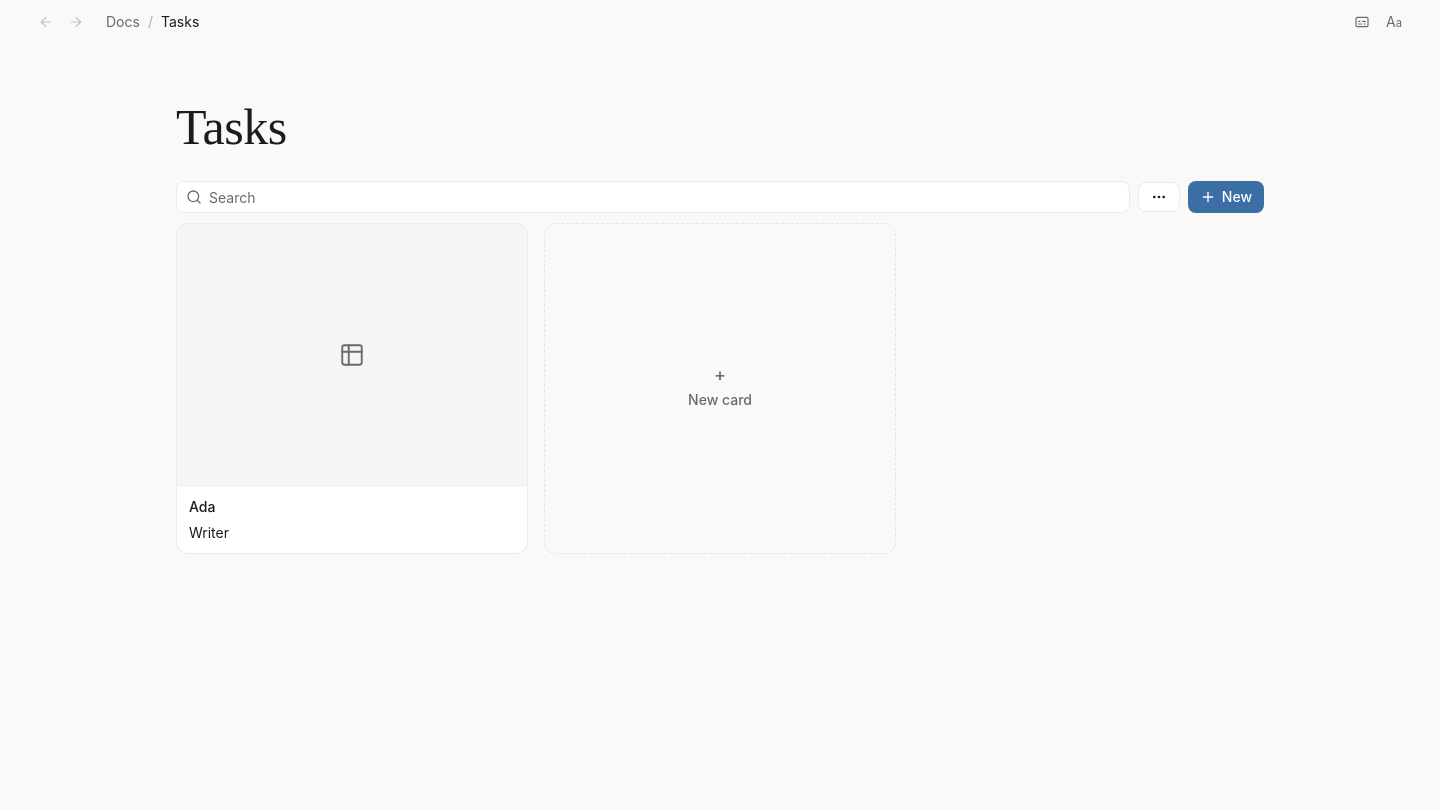
it: DatagridPage › persists title-only cards when the last field is hidden
Expected: the text "Writer" is shown, [189,522,229,542]
Click the button named "View options" at (1159, 197), box [1138,182,1180,212]
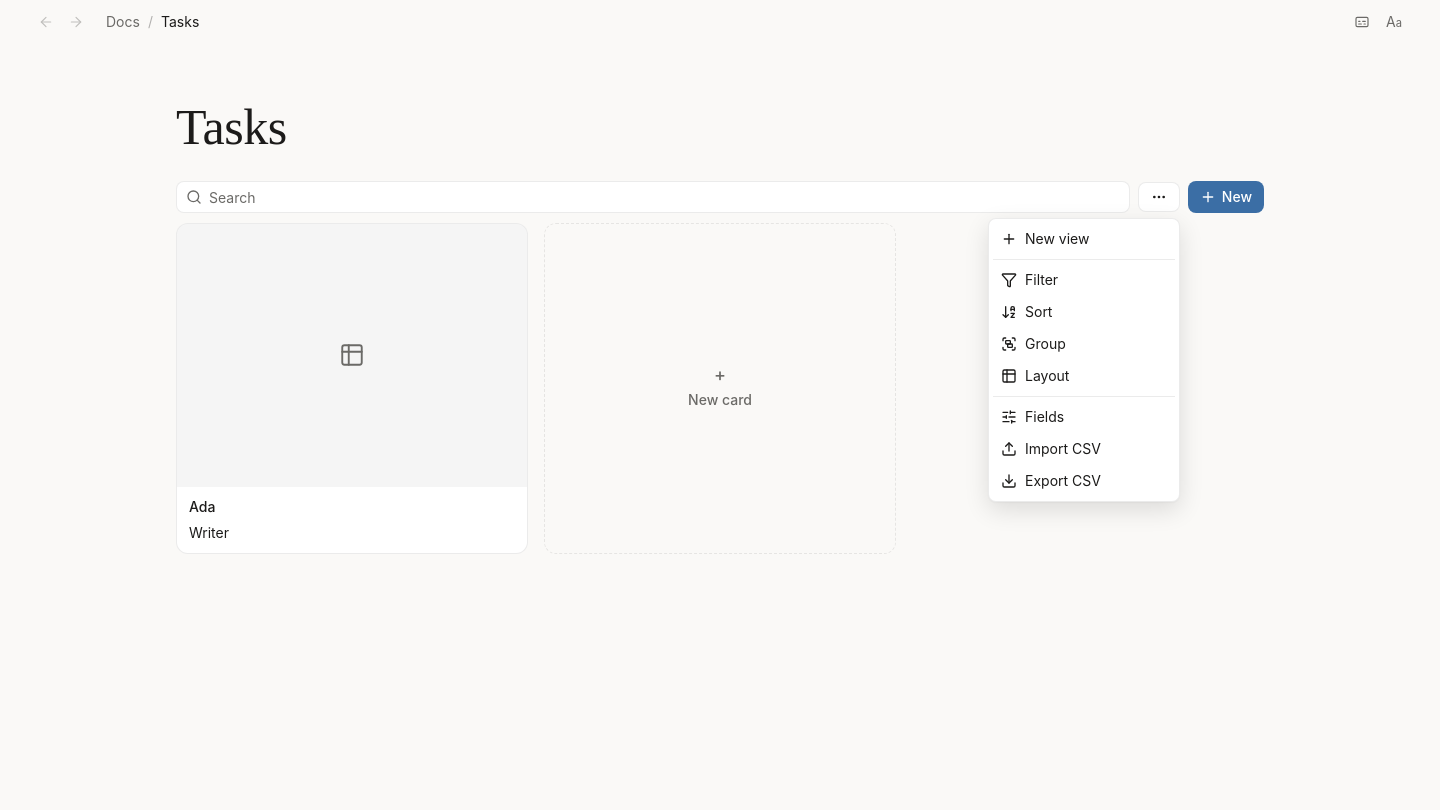
Click the menu item "Fields" at (1033, 416), box [1001,408,1064,425]
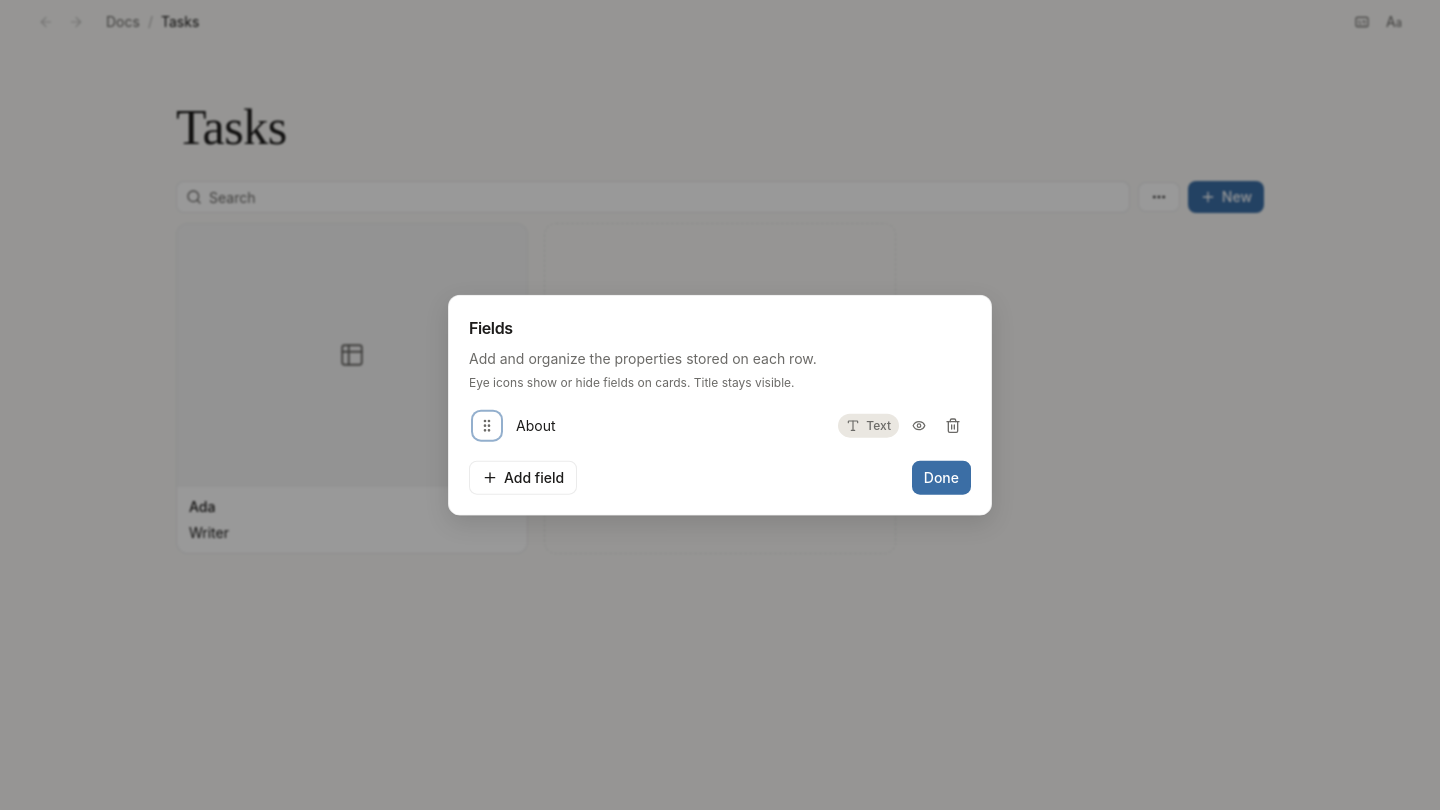
Click the button named "Hide About from cards" at (919, 425), box [905,411,933,439]
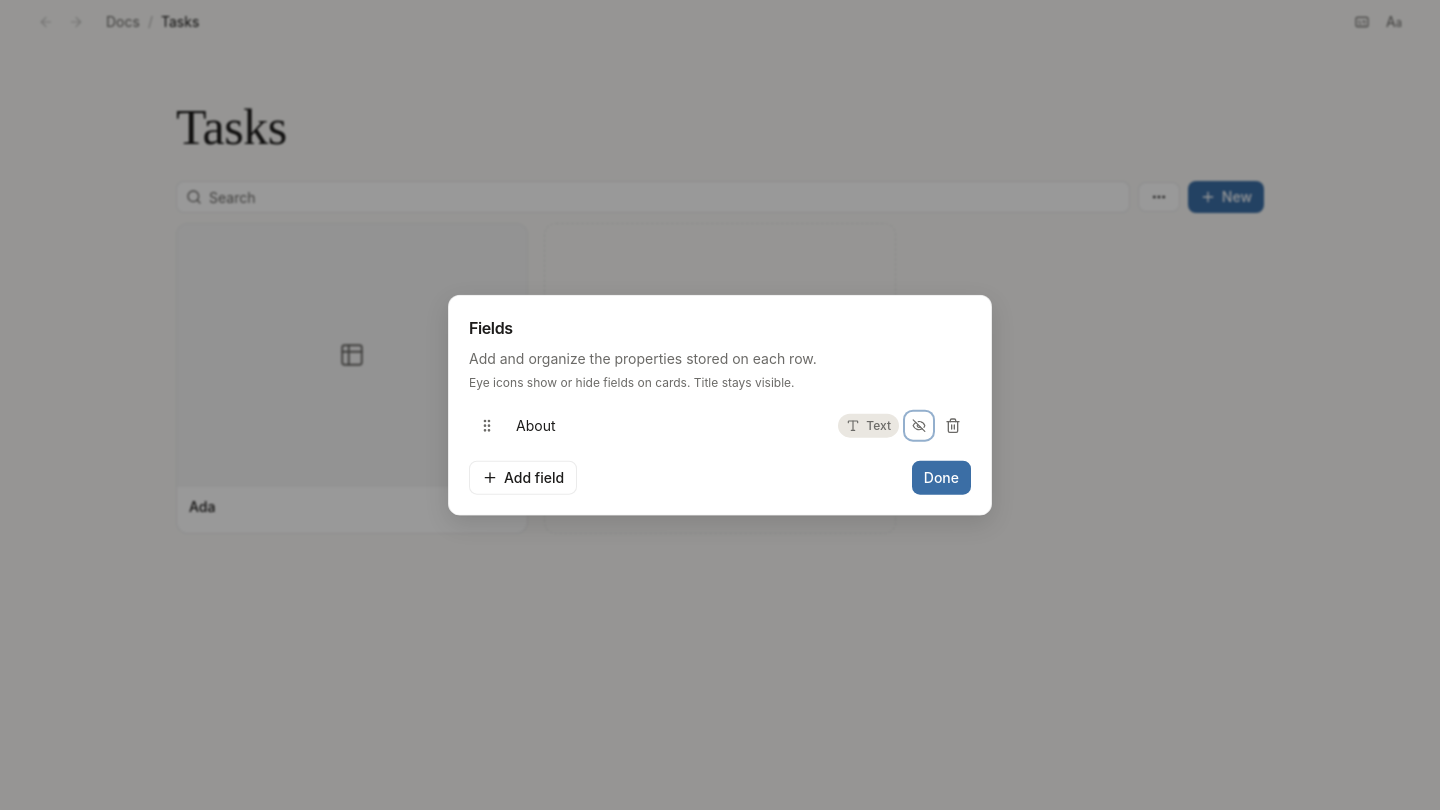
Expected: the text "Writer" is gone
